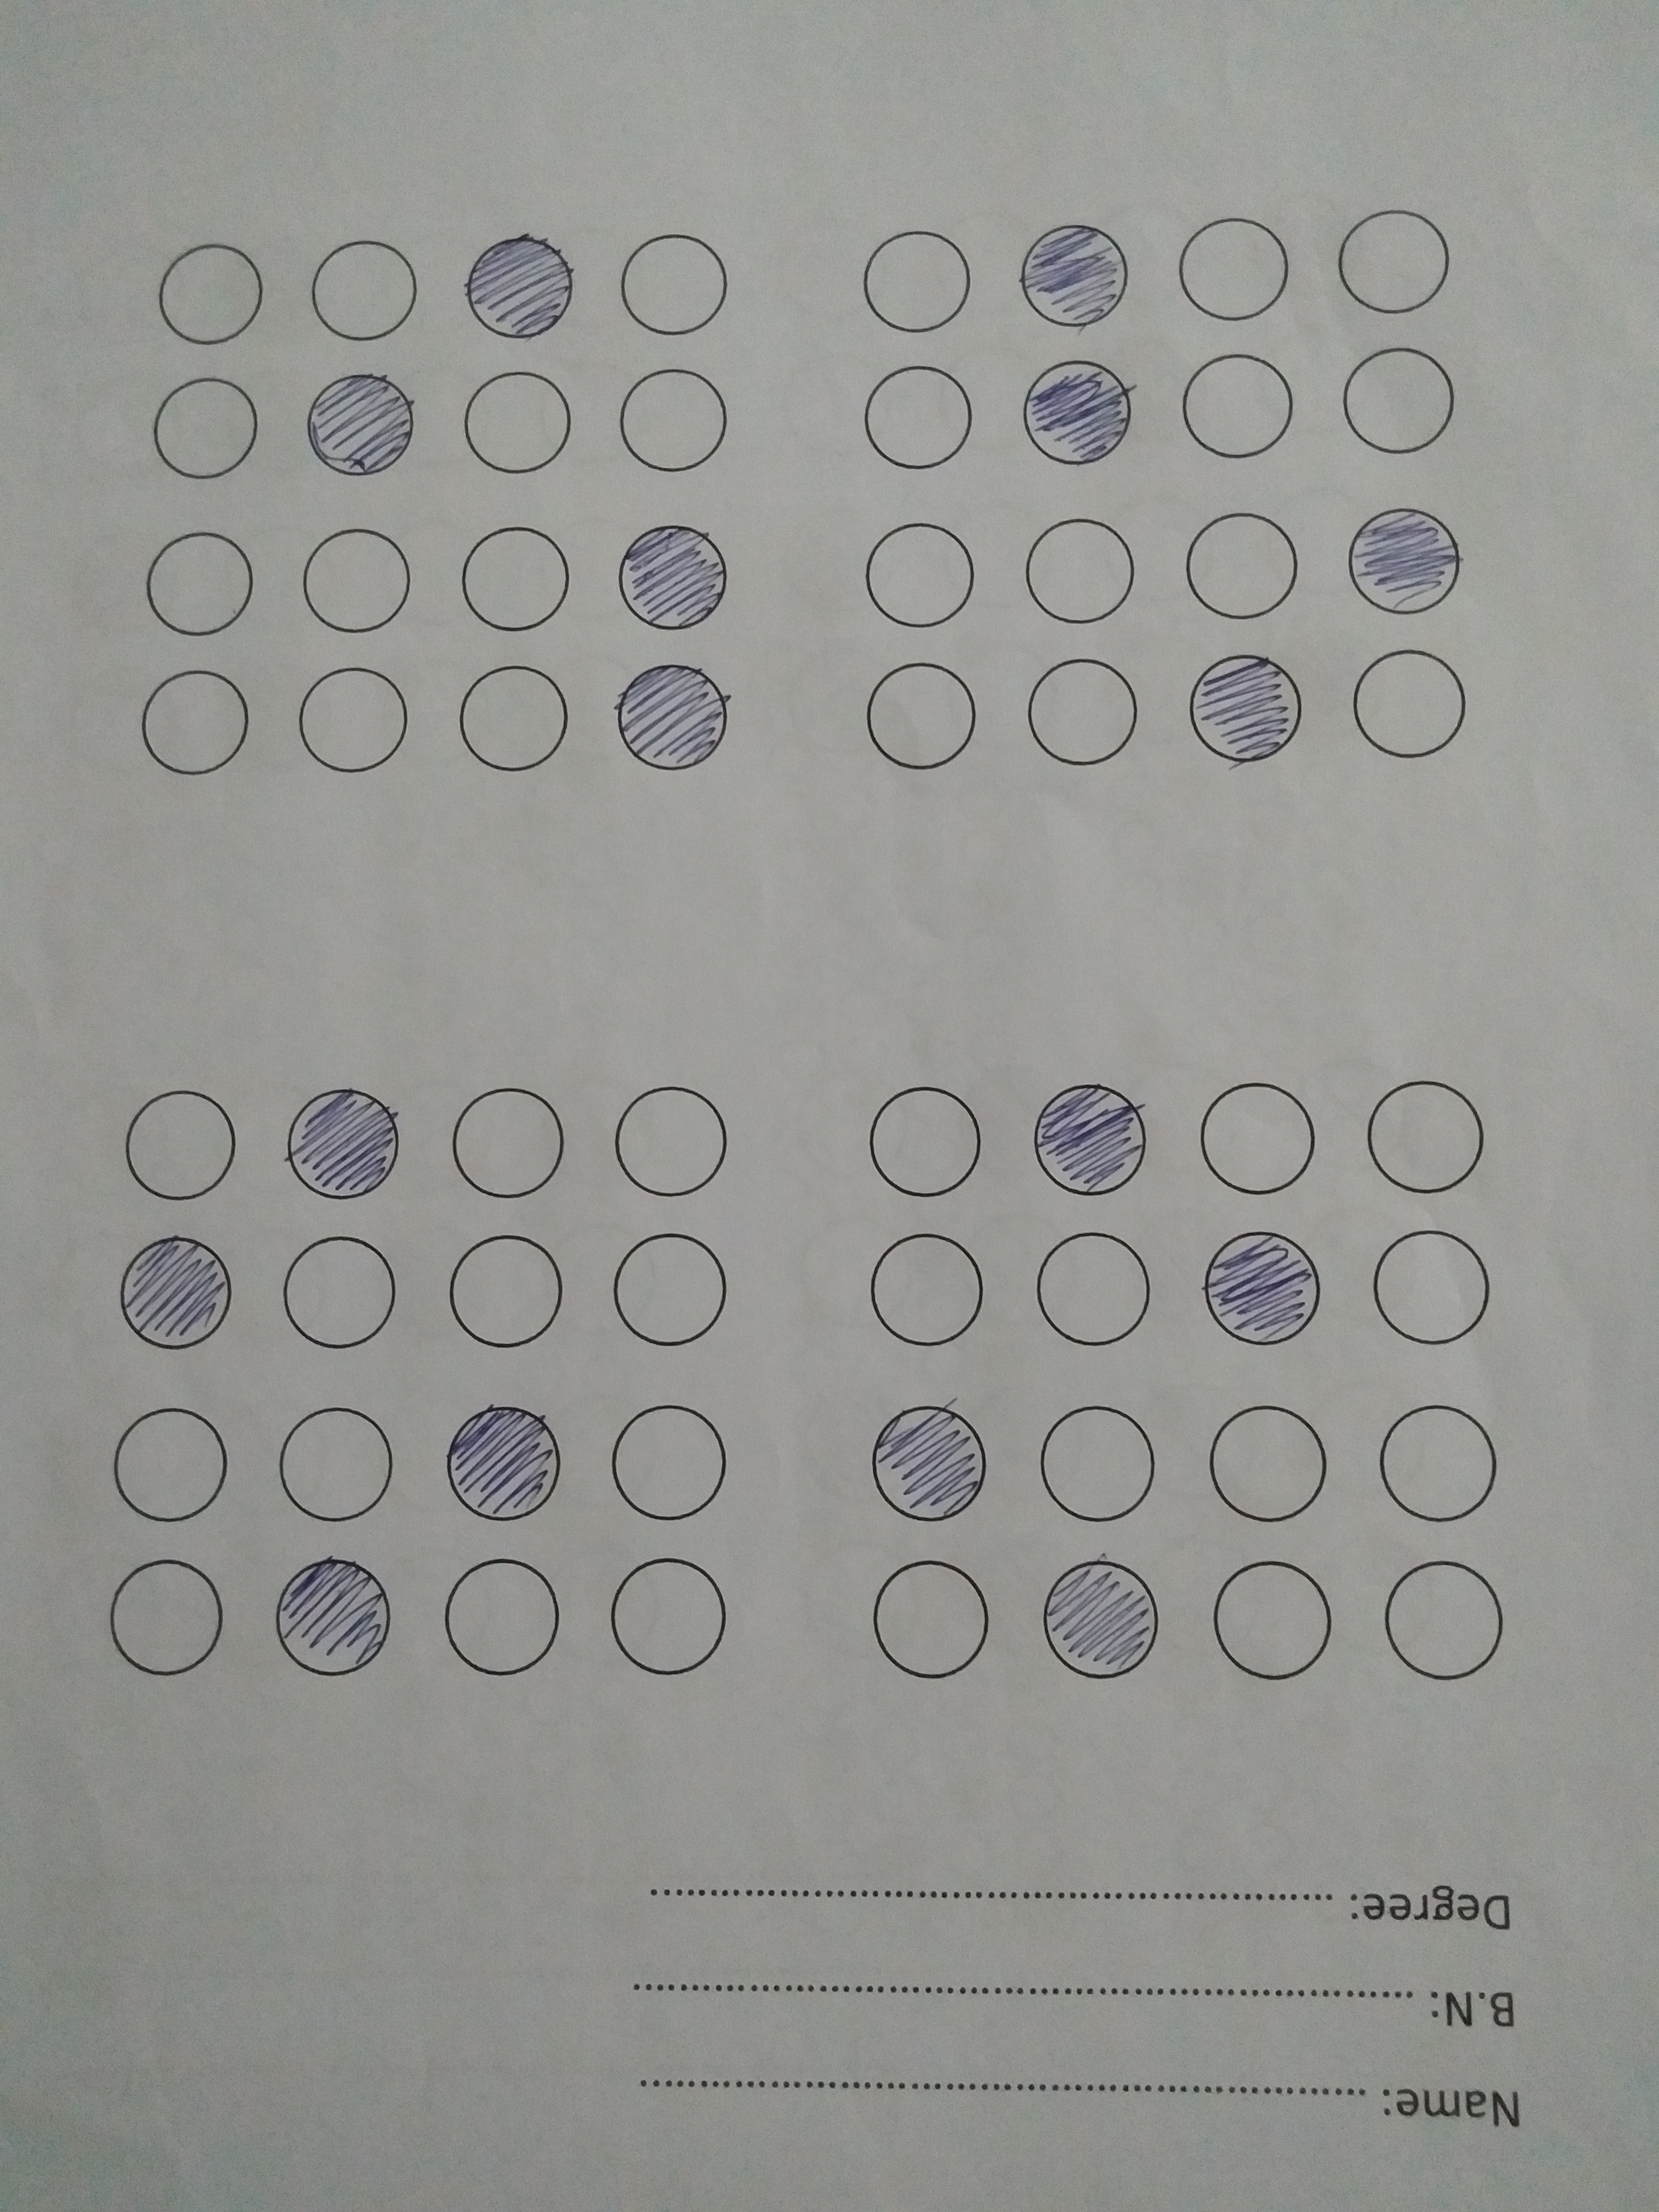not-c: (845, 1071, 999, 1212), (849, 1226, 1000, 1364), (1366, 1397, 1506, 1545), (432, 1075, 584, 1209), (268, 1385, 410, 1526), (91, 1550, 235, 1688), (1358, 1219, 1502, 1357), (1364, 1557, 1516, 1688), (1183, 1068, 1330, 1202), (94, 1402, 246, 1531), (1358, 1066, 1499, 1204), (1026, 1207, 1164, 1348), (1197, 1400, 1347, 1527), (833, 221, 988, 341), (1319, 199, 1459, 331), (599, 1399, 741, 1529), (281, 516, 430, 637), (275, 1228, 418, 1355), (601, 1231, 751, 1352), (859, 507, 997, 637), (436, 1224, 575, 1353), (1344, 639, 1478, 772), (1204, 1552, 1342, 1681), (115, 1082, 260, 1204), (849, 657, 997, 775), (1176, 495, 1309, 627), (1023, 498, 1152, 632), (453, 352, 592, 475), (612, 364, 753, 486), (608, 1552, 741, 1681), (1032, 1399, 1166, 1526), (864, 1559, 1002, 1683), (610, 1080, 734, 1216), (603, 230, 744, 348), (439, 1548, 568, 1676), (293, 228, 427, 350), (850, 359, 990, 475), (446, 660, 580, 780), (1333, 343, 1466, 463), (1021, 648, 1147, 772), (293, 660, 416, 784), (136, 526, 265, 644), (446, 521, 582, 632), (1178, 212, 1300, 336), (1178, 348, 1298, 472), (141, 660, 261, 779), (153, 235, 277, 350), (146, 371, 270, 486)
taken-c: (1042, 1554, 1164, 1681), (871, 1399, 990, 1526), (275, 1555, 397, 1677), (1345, 500, 1469, 618), (1204, 1226, 1323, 1348), (613, 657, 735, 773), (120, 1231, 237, 1353), (1028, 1078, 1145, 1198), (448, 1400, 563, 1522), (281, 1087, 404, 1200), (619, 516, 734, 634), (1187, 650, 1303, 765), (464, 230, 577, 343), (1021, 352, 1133, 465), (1018, 223, 1131, 329), (301, 373, 418, 475)
